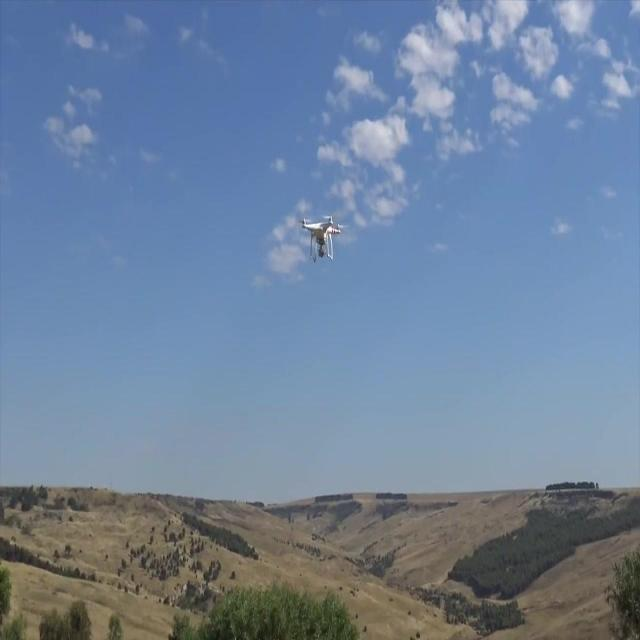UAV: (298, 215, 351, 263)
